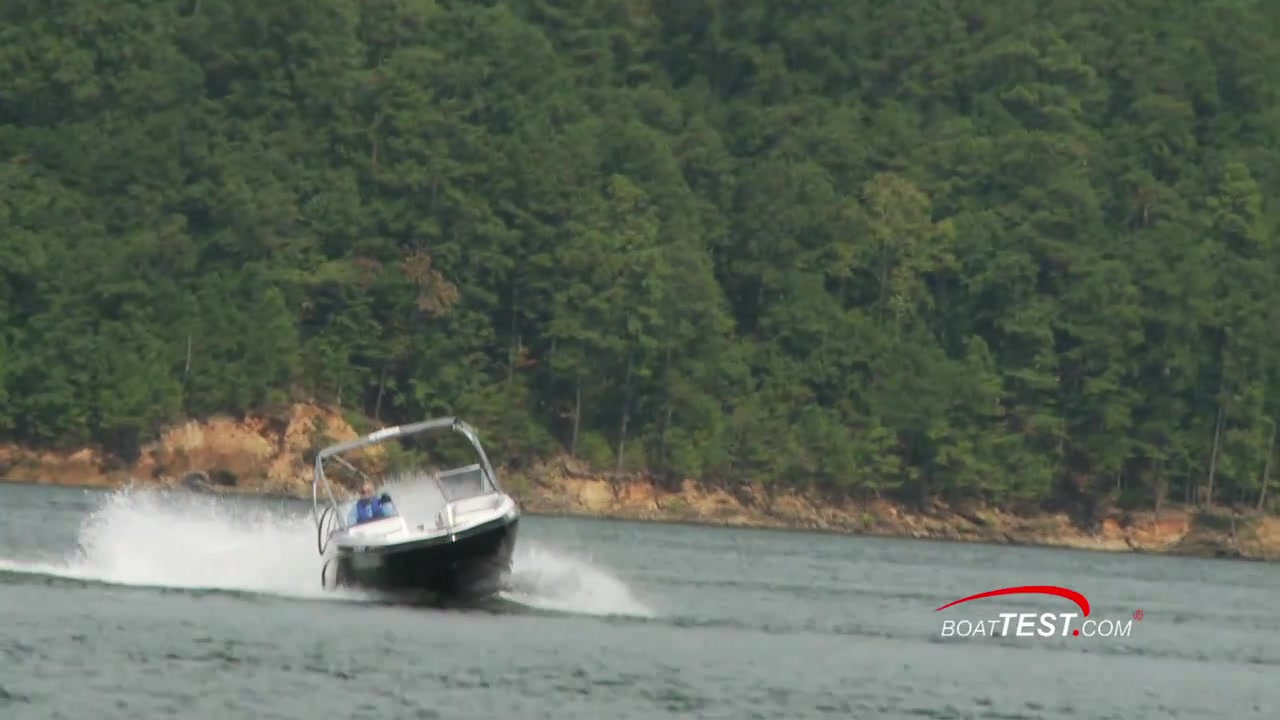boat: (305, 420, 528, 609)
